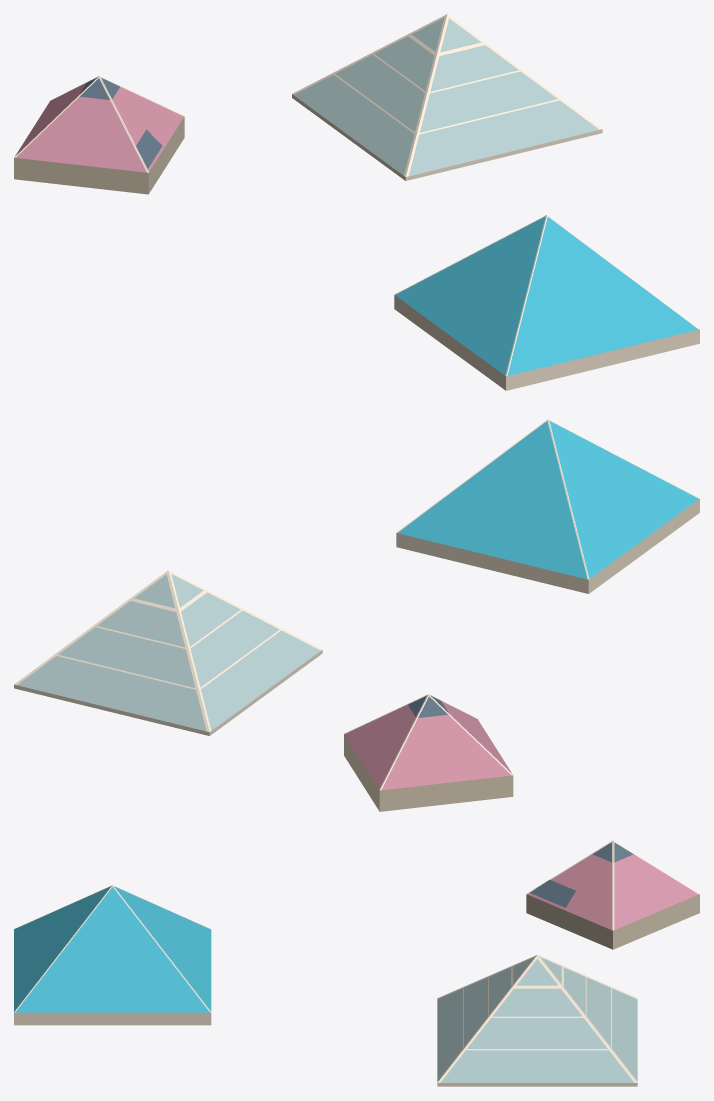
Rendered from hou-moody-gardens-pyramids.glb.
3 views of the same model, one above another, from view 1: azimuth 30°, elevation 25°; view 2: azimuth 150°, elevation 25°; view 3: azimuth 270°, elevation 25° (orthographic). The views are drawn at different scales.
Visible parts, largest first — view 1: Moody Gardens pyramids; view 2: Moody Gardens pyramids; view 3: Moody Gardens pyramids.
Part boxes in pixels (x1,y1,x2,y2): Moody Gardens pyramids: [14, 14, 699, 390]; Moody Gardens pyramids: [14, 419, 699, 811]; Moody Gardens pyramids: [14, 840, 699, 1086].
Bounding box in the file's own units: 156 × 34.13 × 216.
